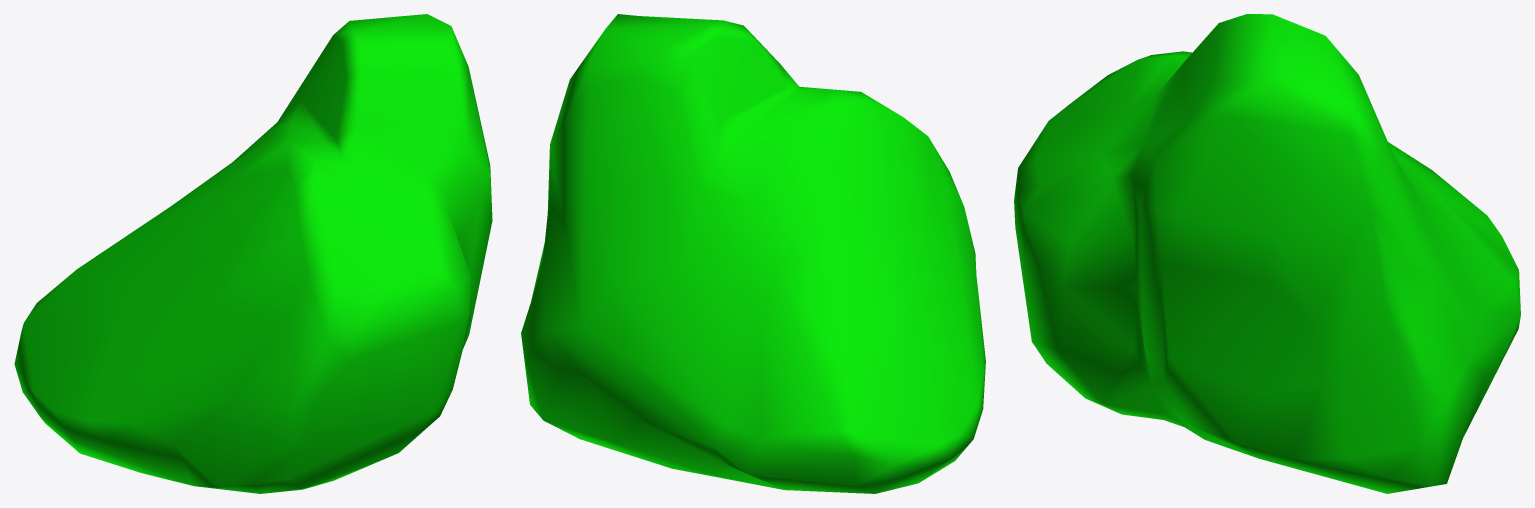
Rendered from Rock3_L.fbx.
3 renders of one model, left to right at view 1: azimuth 30°, elevation 25°; view 2: azimuth 150°, elevation 25°; view 3: azimuth 270°, elevation 25°, orthographic. The views are drawn at different scales.
Visible parts, largest first — view 1: Rock3_TEST_L; view 2: Rock3_TEST_L; view 3: Rock3_TEST_L.
Part boxes in pixels (x1,y1,x2,y2): Rock3_TEST_L: [14, 14, 492, 493]; Rock3_TEST_L: [521, 14, 985, 493]; Rock3_TEST_L: [1014, 14, 1520, 493].
Bounding box in the file's own units: 4.73 × 4.36 × 4.56.
